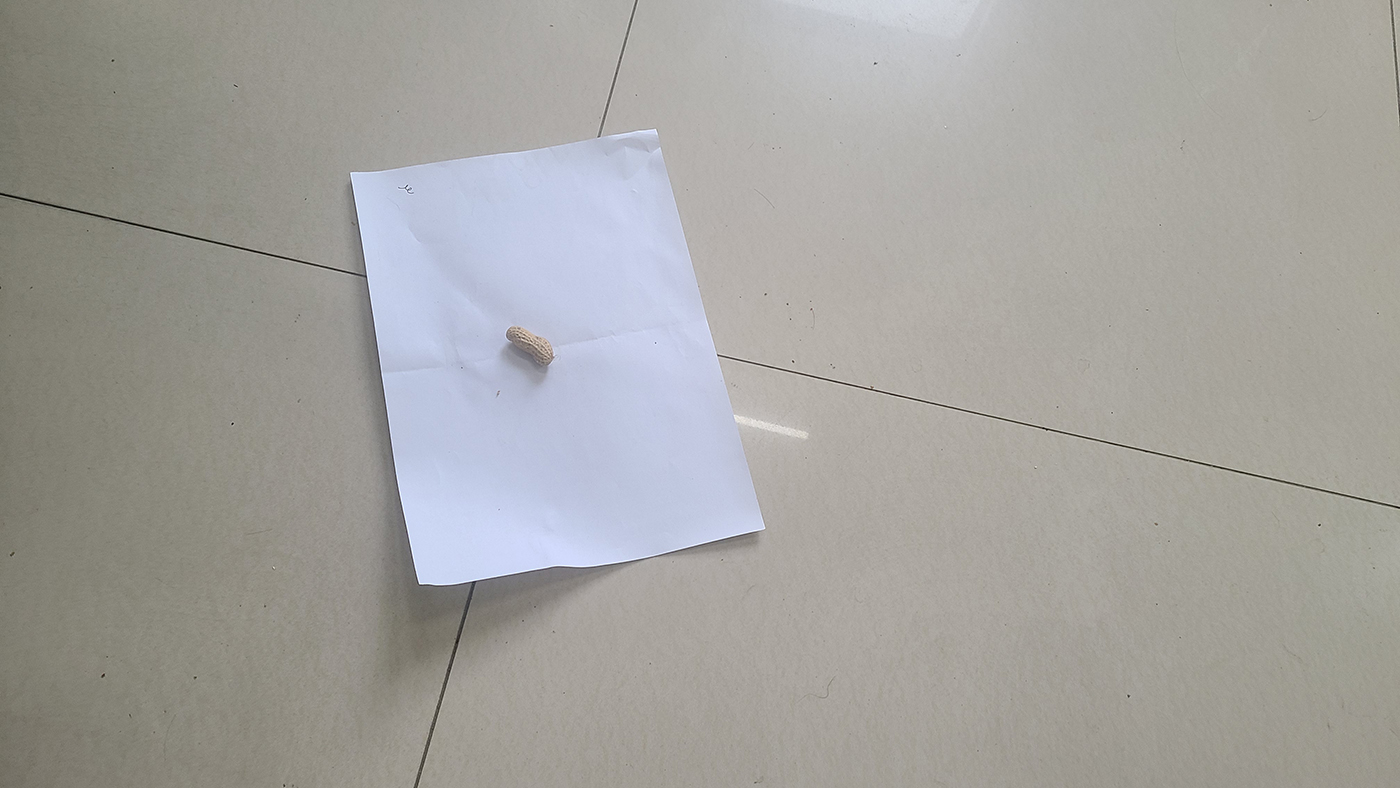h: (506, 323, 554, 364)
